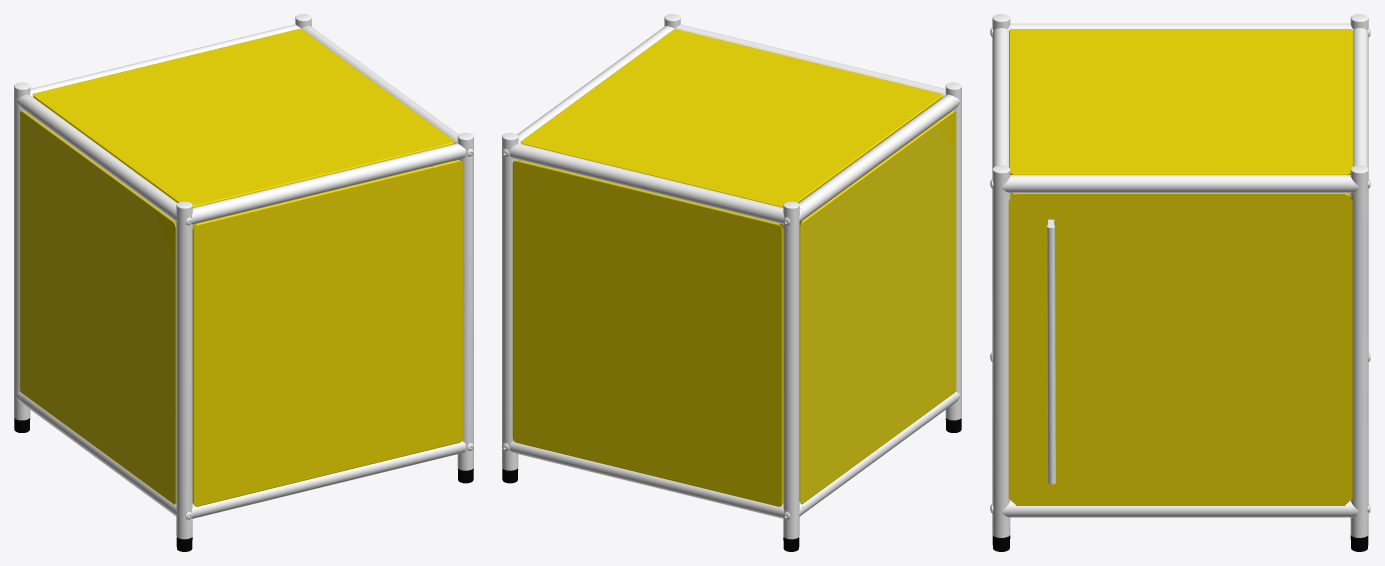
The model's file is 40x40x40-2-4-yellow_optimized_optimized.glb.
The picture shows the model from 3 angles, left to right: view 1: azimuth 30°, elevation 25°; view 2: azimuth 150°, elevation 25°; view 3: azimuth 270°, elevation 25°; orthographic projection. The views are drawn at different scales.
Parts seen in each view (by area): view 1: 直角鐵板-40x40-5 - 零件, 反-鐵管-40-354..4-1 - 零件, 圓形腳+調整器-1 - 零件; view 2: 直角鐵板-40x40-5 - 零件, 反-鐵管-40-354..4-1 - 零件, 圓形腳+調整器-1 - 零件; view 3: 直角鐵板-40x40-5 - 零件, 反-鐵管-40-354..4-1 - 零件, 圓形腳+調整器-1 - 零件.
Part boxes in pixels (x1=…): 直角鐵板-40x40-5 - 零件: x1=20, y1=28, x2=463, y2=506; 反-鐵管-40-354..4-1 - 零件: x1=14, y1=14, x2=473, y2=539; 圓形腳+調整器-1 - 零件: x1=14, y1=418, x2=473, y2=551; 直角鐵板-40x40-5 - 零件: x1=512, y1=29, x2=956, y2=506; 反-鐵管-40-354..4-1 - 零件: x1=502, y1=14, x2=961, y2=539; 圓形腳+調整器-1 - 零件: x1=502, y1=418, x2=961, y2=551; 直角鐵板-40x40-5 - 零件: x1=1008, y1=29, x2=1352, y2=505; 反-鐵管-40-354..4-1 - 零件: x1=990, y1=14, x2=1370, y2=537; 圓形腳+調整器-1 - 零件: x1=992, y1=535, x2=1368, y2=551.
Bounding box in the file's own units: 0.4203 × 0.4453 × 0.4035.
